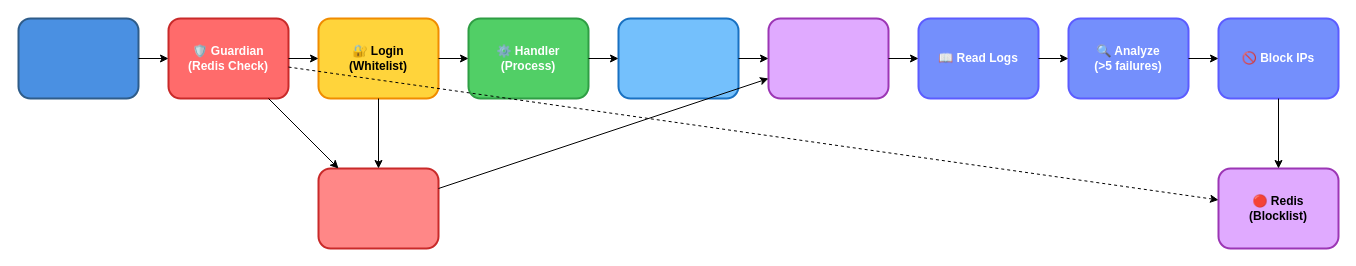
Some shapes in this 1356 by 266 pixel diagram are drawn without their labels. The shapes that lost their labels are listed below. From the top down, each one's centre as x and y in pixels, then its label:
At [78,58]: "Client Request (POST /task)".
At [678,58]: "✅ Response (JSON)".
At [828,58]: "📋 login.log".
At [378,208]: "❌ Blocked (403)".
